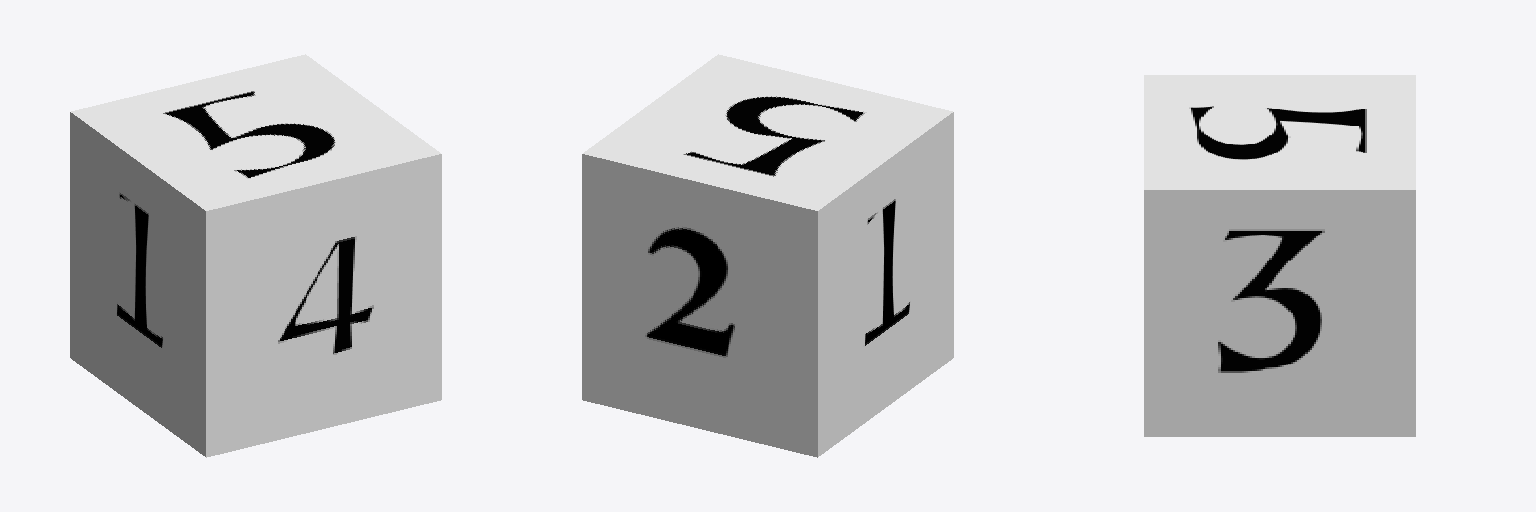
The picture shows the model from 3 angles: view 1: azimuth 30°, elevation 25°; view 2: azimuth 150°, elevation 25°; view 3: azimuth 270°, elevation 25°; orthographic projection.
Visible parts, largest first — view 1: Regroup04, Regroup01, Regroup05; view 2: Regroup02, Regroup01, Regroup05; view 3: Regroup03, Regroup05.
Part boxes in pixels (bbox=[...]): Regroup04: bbox=[206, 154, 441, 457]; Regroup01: bbox=[70, 112, 205, 456]; Regroup05: bbox=[71, 54, 440, 210]; Regroup02: bbox=[582, 154, 817, 457]; Regroup01: bbox=[818, 112, 953, 456]; Regroup05: bbox=[583, 54, 952, 210]; Regroup03: bbox=[1144, 190, 1415, 436]; Regroup05: bbox=[1144, 75, 1415, 189].
Bounding box in the file's own units: 20 × 20 × 20.
6 materials, 5 textured.